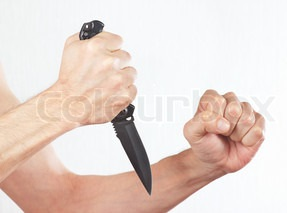knife: (90, 65, 158, 205)
